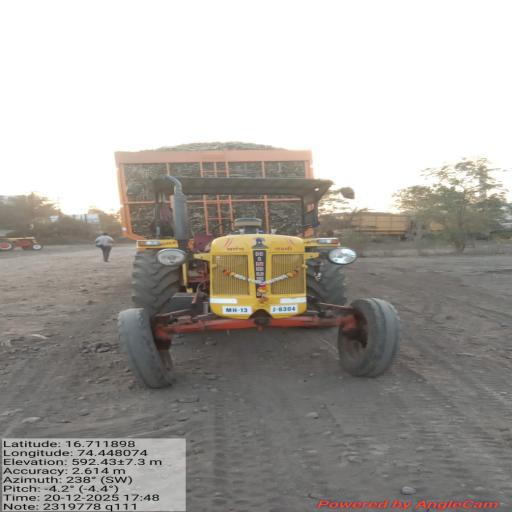number_plate: (216, 305, 316, 314)
